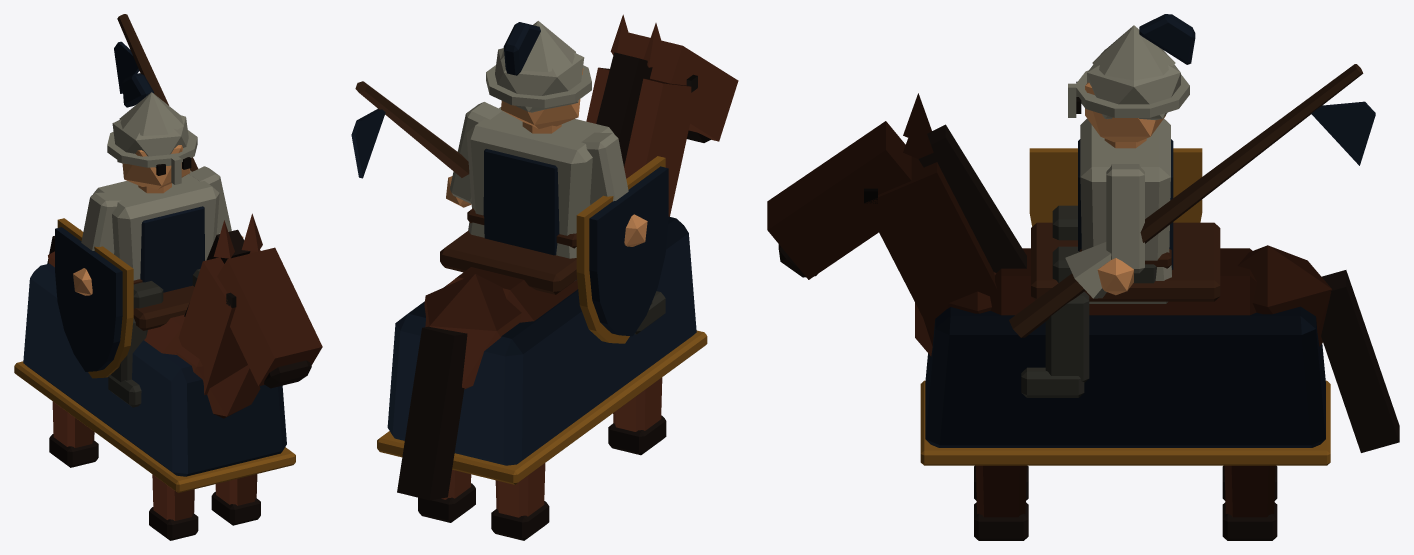
File: knight.obj
3 views of the same model, side by side, from view 1: azimuth 30°, elevation 25°; view 2: azimuth 150°, elevation 25°; view 3: azimuth 270°, elevation 25° (orthographic). The views are drawn at different scales.
Parts seen in each view (by area): view 1: horse, body, tool; view 2: horse, body, tool; view 3: horse, body, tool.
Boxes of the visible parts, x1=… form: horse: x1=14, y1=213, x2=322, y2=540; body: x1=55, y1=73, x2=243, y2=407; tool: x1=114, y1=14, x2=231, y2=234; horse: x1=377, y1=14, x2=738, y2=540; body: x1=446, y1=21, x2=668, y2=343; tool: x1=351, y1=81, x2=469, y2=178; horse: x1=767, y1=93, x2=1399, y2=540; body: x1=1021, y1=14, x2=1202, y2=397; tool: x1=1009, y1=64, x2=1375, y2=337.
Bounding box in the file's own units: 0.2494 × 0.5664 × 0.651.
